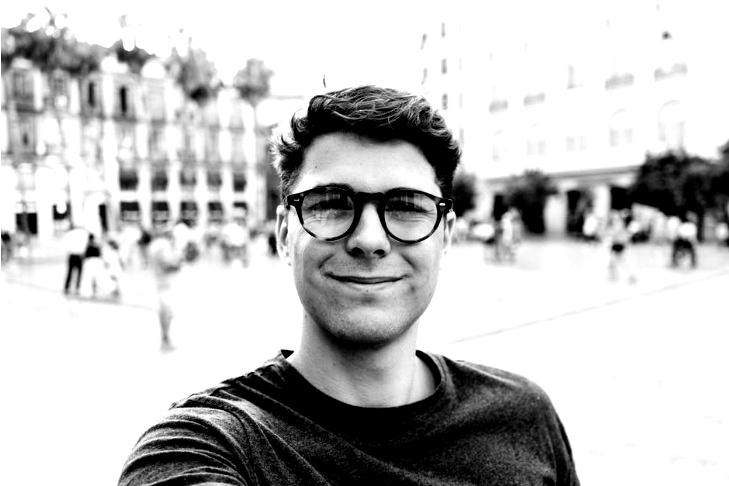face: (288, 130, 445, 340)
